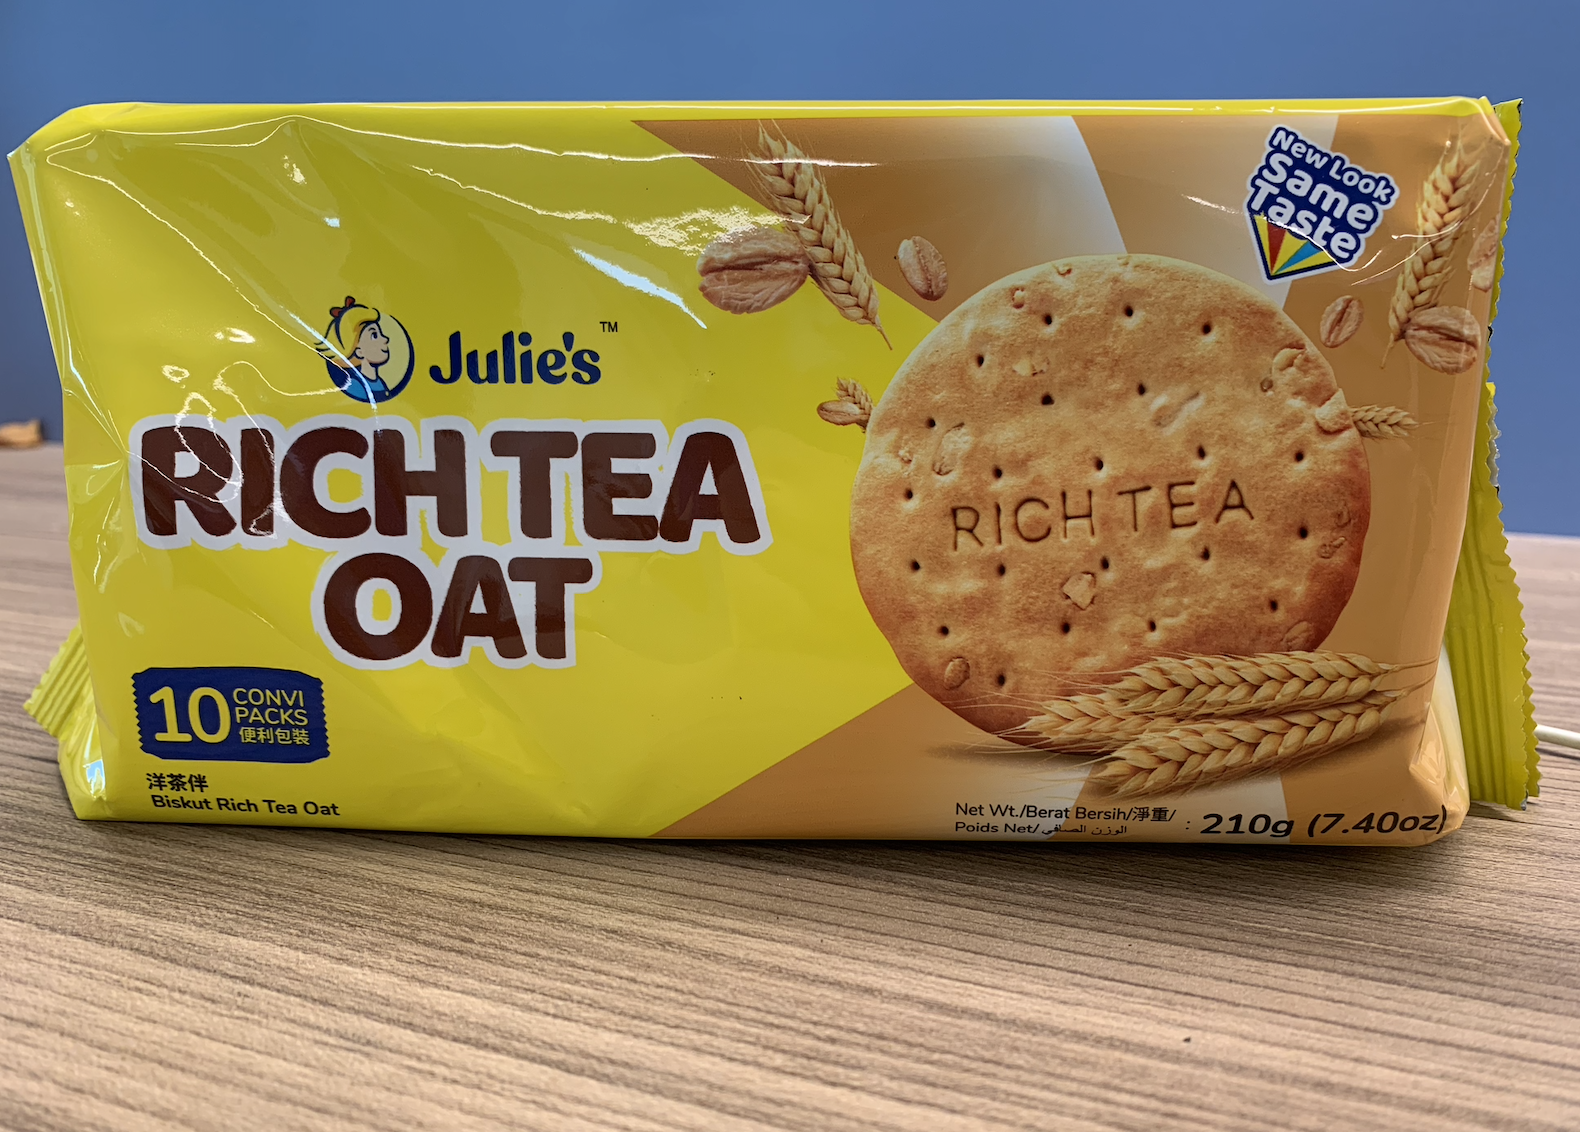cookies_200g-299g: (80, 138, 1480, 851)
